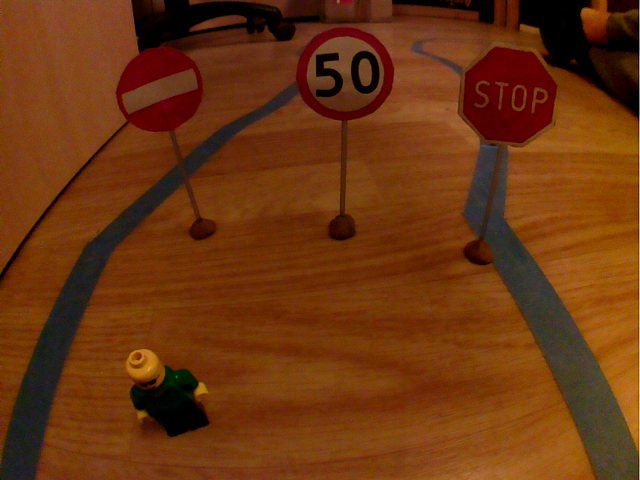Ograniczenie 50: (291, 22, 399, 125)
Postac LEGO: (122, 342, 218, 440)
Stop: (452, 35, 562, 152)
Zakaz: (113, 45, 207, 136)
